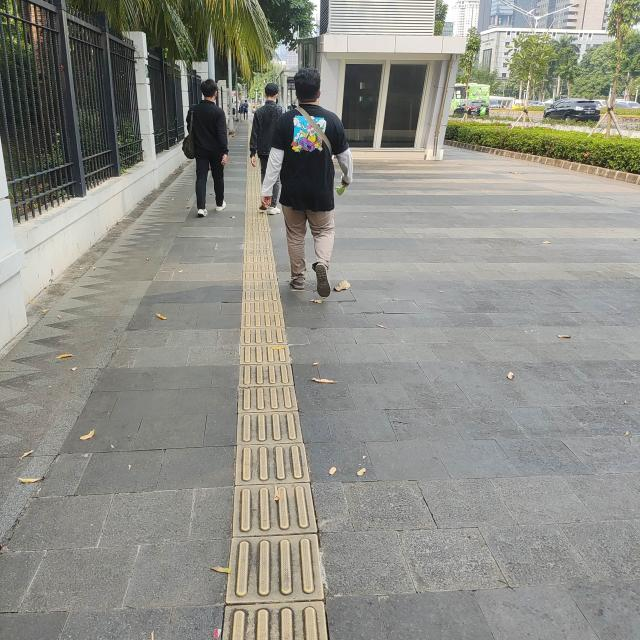lurus: (228, 208, 308, 640)
